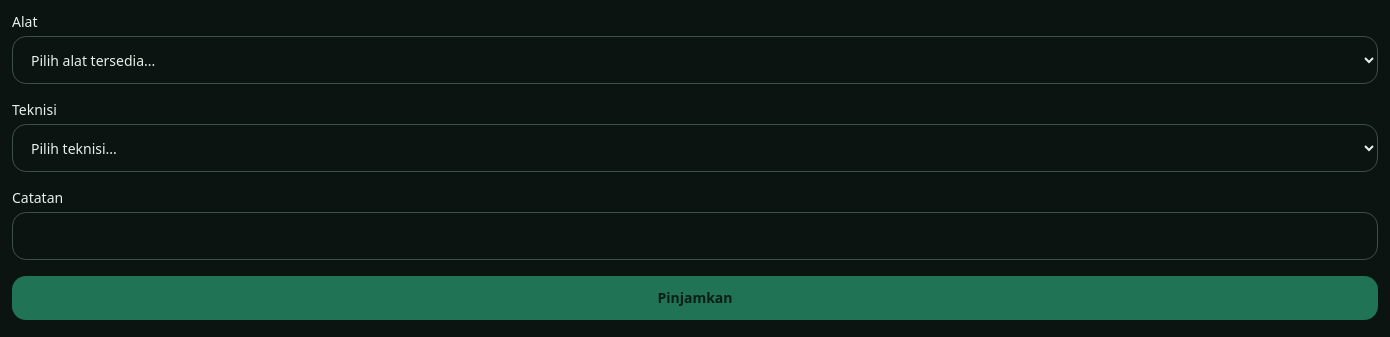
Test: BorrowForm › shows the backend conflict message instead of a generic server error
Select "OTDR (OTDR-1)" in the dropdown labelled "Alat" at [695, 60], box [12, 36, 1378, 84]
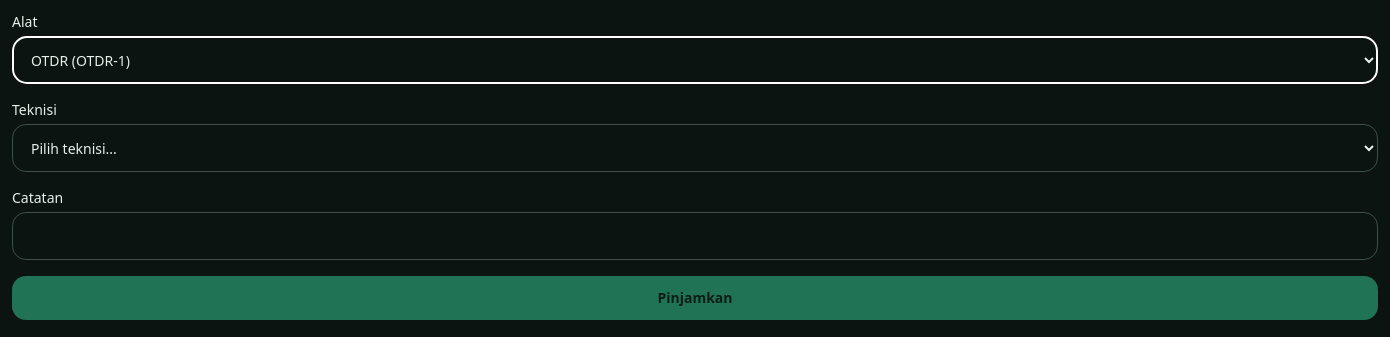
Select "Budi" in the dropdown labelled "Teknisi" at [695, 148], box [12, 124, 1378, 172]
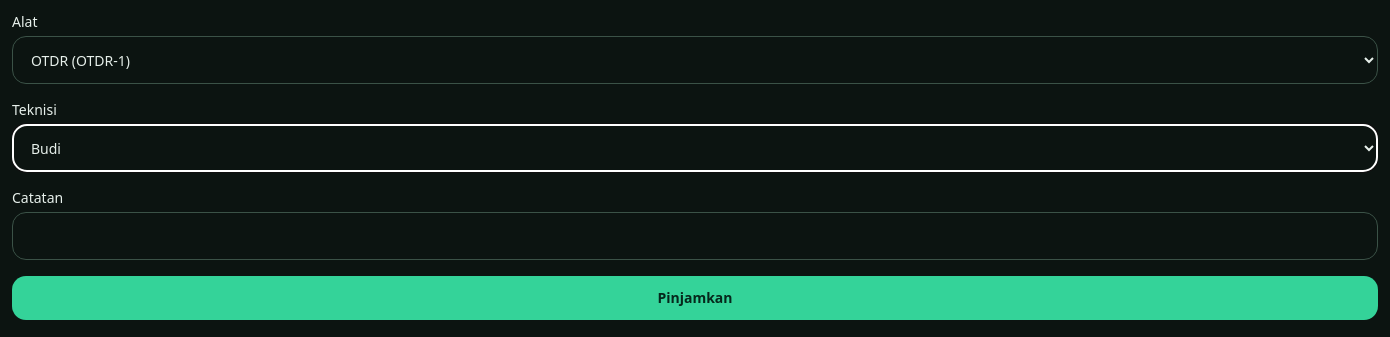
Click the button "Pinjamkan" at [695, 298], box [12, 276, 1378, 320]
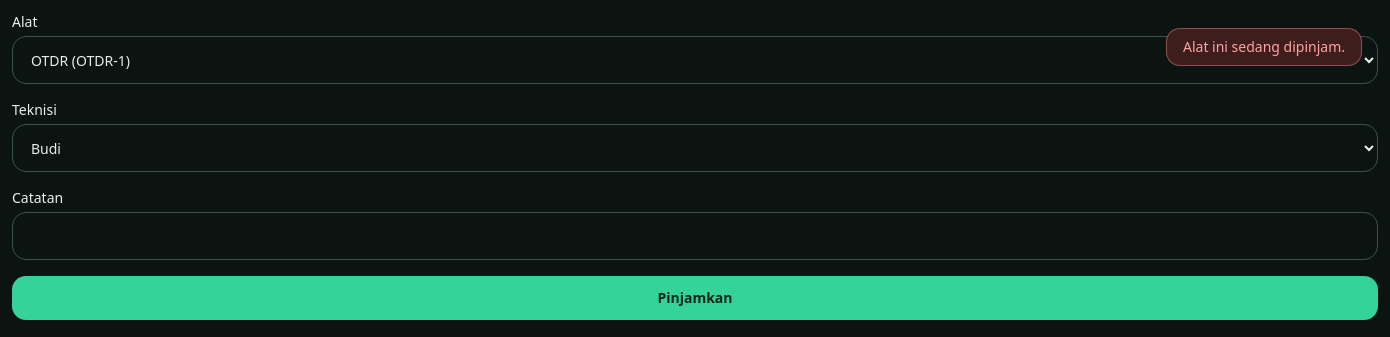
Expected: the text "Alat ini sedang dipinjam." is shown, [1166, 28, 1362, 66]
